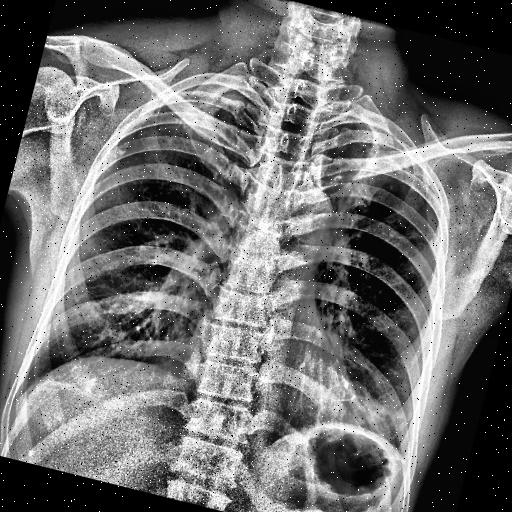11- Pleural thickening: (395, 150, 446, 194)
13- Pulmonary fibrosis: (162, 97, 206, 153), (382, 224, 431, 254)
7- Lung Opacity: (339, 378, 412, 442), (400, 226, 426, 248)
